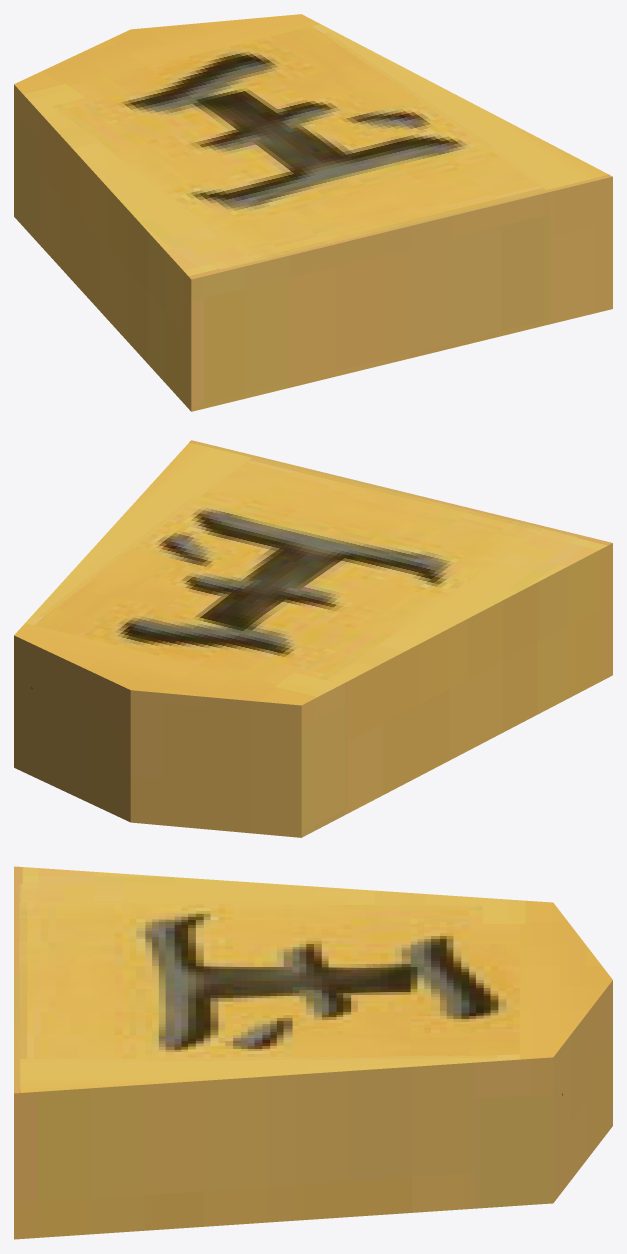
The model's file is OUSYO_01.fbx.
3 renders of one model, top to bottom at view 1: azimuth 30°, elevation 25°; view 2: azimuth 150°, elevation 25°; view 3: azimuth 270°, elevation 25°, orthographic. The views are drawn at different scales.
Visible parts, largest first — view 1: Circle; view 2: Circle; view 3: Circle.
Part boxes in pixels (box(x1,y1,x2,y2)): Circle: box(14, 14, 612, 411); Circle: box(14, 440, 612, 837); Circle: box(14, 866, 612, 1239).
Bounding box in the file's own units: 100 × 30 × 112.
